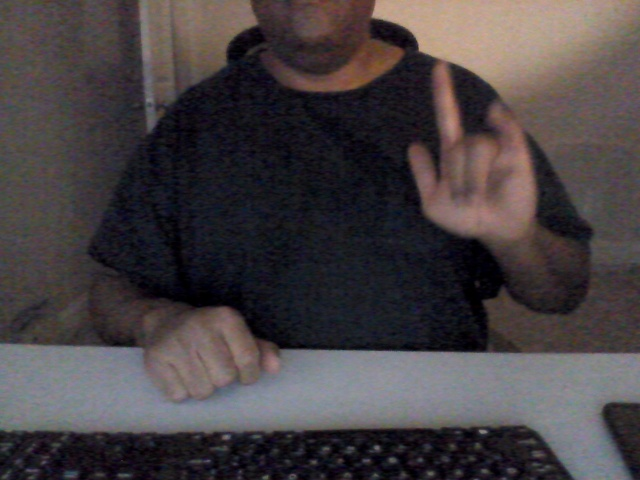i_love_you: (398, 61, 538, 244)
